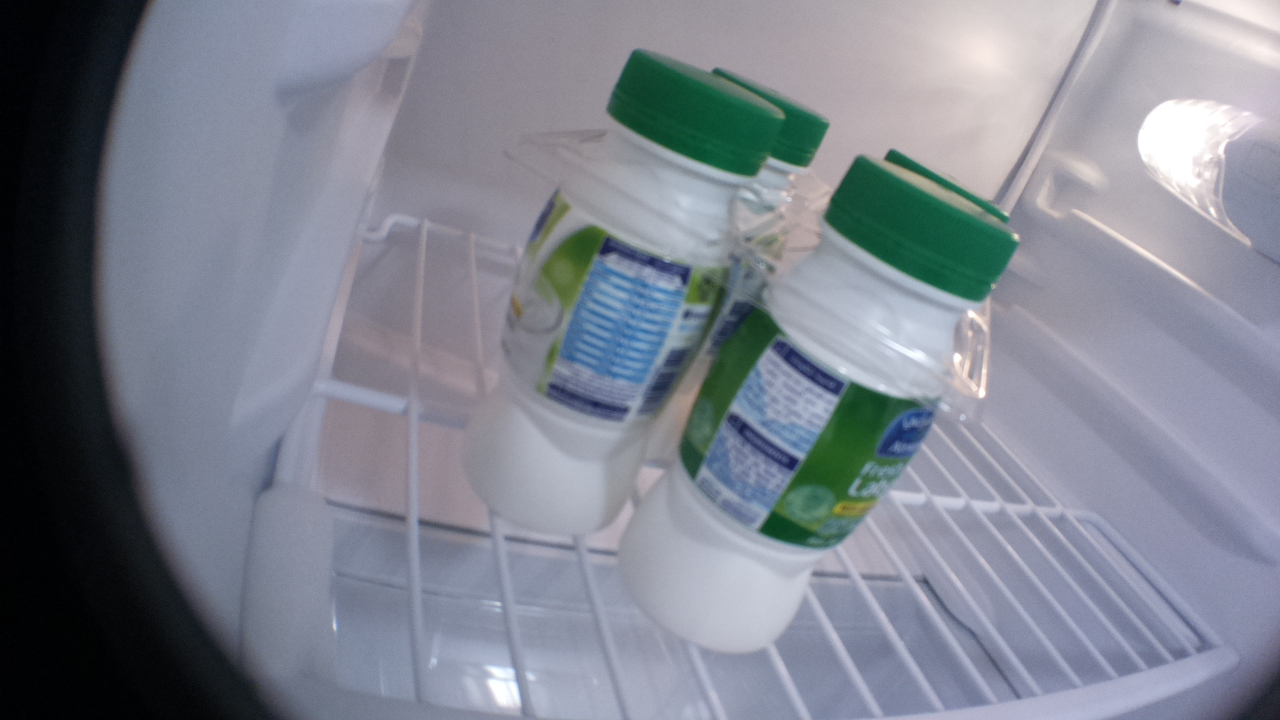laban: (619, 148, 1022, 687), (450, 45, 785, 529)
